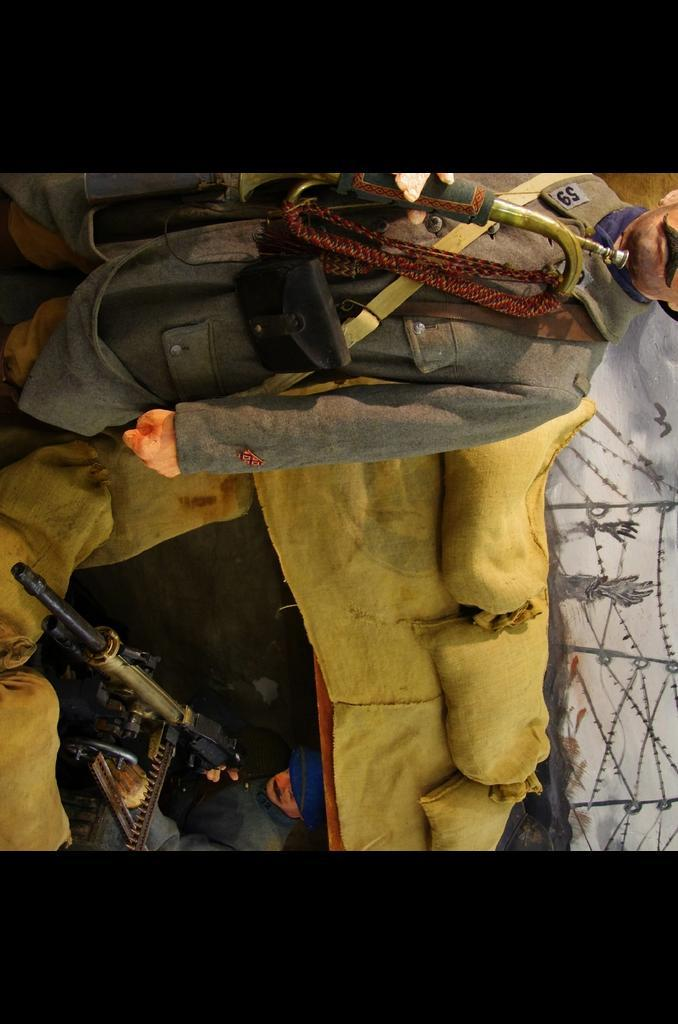gun: (11, 559, 240, 842)
